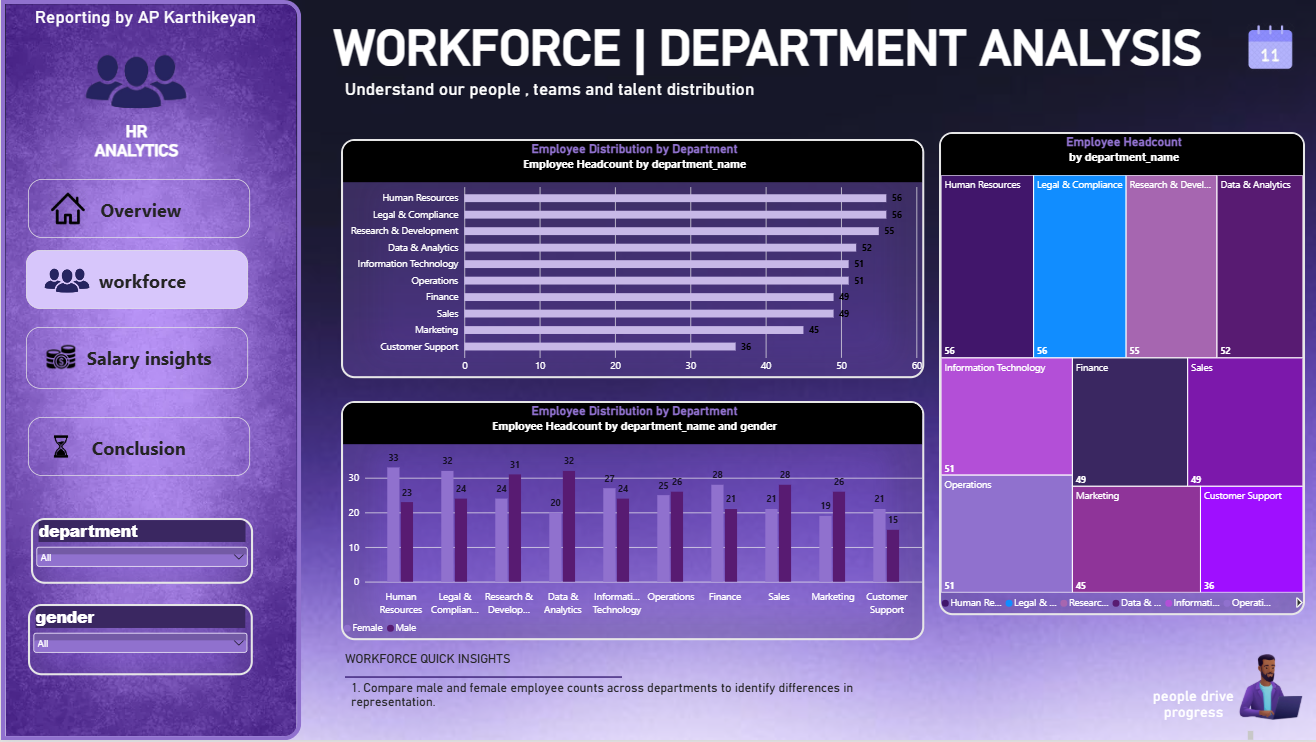

The page's visual inventory and layout, read from the dashboard file:
{"tool":"powerbi","page":{"name":"Page 2","canvas":[1920,1080],"ordinal":1},"visuals":[{"type":"image","box":[0,0,437.7,1079.6],"z":0},{"type":"textbox","title":"HR ANALYTICS","box":[124,178,147.4,64.2],"z":1000},{"type":"textbox","title":"WORKFORCE | DEPARTMENT ANALYSIS","box":[437.7,27.7,1361.2,87.5],"z":2000},{"type":"image","box":[108,27.7,180.9,175.1],"z":3000},{"type":"textbox","box":[39.4,261.2,323.9,86.1],"z":4000},{"type":"image","box":[67.1,261.2,61.3,86.1],"z":5000},{"type":"textbox","box":[36.5,364.7,323.9,86.1],"z":6000},{"type":"textbox","box":[39.4,608.4,323.9,86.1],"z":7000},{"type":"textbox","box":[36.5,477.1,323.9,90.5],"z":8000},{"type":"image","box":[56.9,366.2,80.2,83.2],"z":9000},{"type":"image","box":[56.9,478.5,61.3,86.1],"z":10000},{"type":"image","box":[56.9,608.4,61.3,86.1],"z":11000},{"type":"slicer","fields":{"Values":["hr_analytics employees.gender"]},"box":[39.4,881.2,328.3,103.6],"z":12000},{"type":"slicer","fields":{"Values":["hr_analytics departments.department_name"]},"box":[43.8,755.7,323.9,96.3],"z":13000},{"type":"textbox","title":"Understand our people , teams and talent distribution","box":[501.9,115.3,795.1,33.6],"z":14000},{"type":"image","box":[1816.4,27.7,71.5,81.7],"z":15000},{"type":"textbox","title":"people drive progress","box":[1653,1002.3,173.6,77.3],"z":16000},{"type":"image","box":[1785.8,949.8,134.2,105],"z":17000},{"type":"clusteredBarChart","title":"Employee Distribution by Department","fields":{"Category":["hr_analytics departments.department_name"],"Y":["hr_analytics attendance.Employee Headcount"]},"box":[496,202.8,850.6,348.7],"z":18000},{"type":"treemap","fields":{"Group":["hr_analytics departments.department_name"],"Values":["hr_analytics attendance.Employee Headcount"]},"box":[1368.5,192.6,534,704.7],"z":19000},{"type":"clusteredColumnChart","title":"Employee Distribution by Department","fields":{"Category":["hr_analytics departments.department_name"],"Series":["hr_analytics employees.gender"],"Y":["hr_analytics attendance.Employee Headcount"]},"box":[496,585,850.6,348.7],"z":20000},{"type":"textbox","title":"WORKFORCE QUICK INSIGHTS","box":[501.9,949.8,404.1,48.1],"z":21000},{"type":"textbox","title":" 1.    Compare male and female employee counts across departments to identify differences in representation.","box":[510.6,992.1,822.9,87.5],"z":22000},{"type":"textbox","title":"Reporting  by AP Karthikeyan","box":[49.6,10.2,335.6,37.9],"z":23000}]}

Visuals, with their boxes in screenshot pixels (x1, y1, x2, y2), scaled from the page's 1920x1080 canvas onto the 1316x742 screenshot:
image: bbox(0, 0, 300, 741)
"HR ANALYTICS" textbox: bbox(85, 122, 186, 166)
"WORKFORCE | DEPARTMENT ANALYSIS" textbox: bbox(300, 19, 1233, 79)
image: bbox(74, 19, 198, 139)
textbox: bbox(27, 179, 249, 239)
image: bbox(46, 179, 88, 239)
textbox: bbox(25, 251, 247, 310)
textbox: bbox(27, 418, 249, 477)
textbox: bbox(25, 328, 247, 390)
image: bbox(39, 252, 94, 309)
image: bbox(39, 329, 81, 388)
image: bbox(39, 418, 81, 477)
slicer - hr_analytics employees.gender: bbox(27, 605, 252, 677)
slicer - hr_analytics departments.department_name: bbox(30, 519, 252, 585)
"Understand our people , teams and talent distribution" textbox: bbox(344, 79, 889, 102)
image: bbox(1245, 19, 1294, 75)
"people drive progress" textbox: bbox(1133, 689, 1252, 741)
image: bbox(1224, 653, 1315, 725)
"Employee Distribution by Department" clusteredBarChart: bbox(340, 139, 923, 379)
treemap - hr_analytics departments.department_name x hr_analytics attendance.Employee Headcount: bbox(938, 132, 1304, 616)
"Employee Distribution by Department" clusteredColumnChart: bbox(340, 402, 923, 641)
"WORKFORCE QUICK INSIGHTS" textbox: bbox(344, 653, 621, 686)
" 1.    Compare male and female employee counts across departments to identify differences in representation." textbox: bbox(350, 682, 914, 741)
"Reporting  by AP Karthikeyan" textbox: bbox(34, 7, 264, 33)
